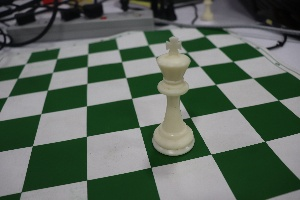white_king: (141, 24, 208, 163)
